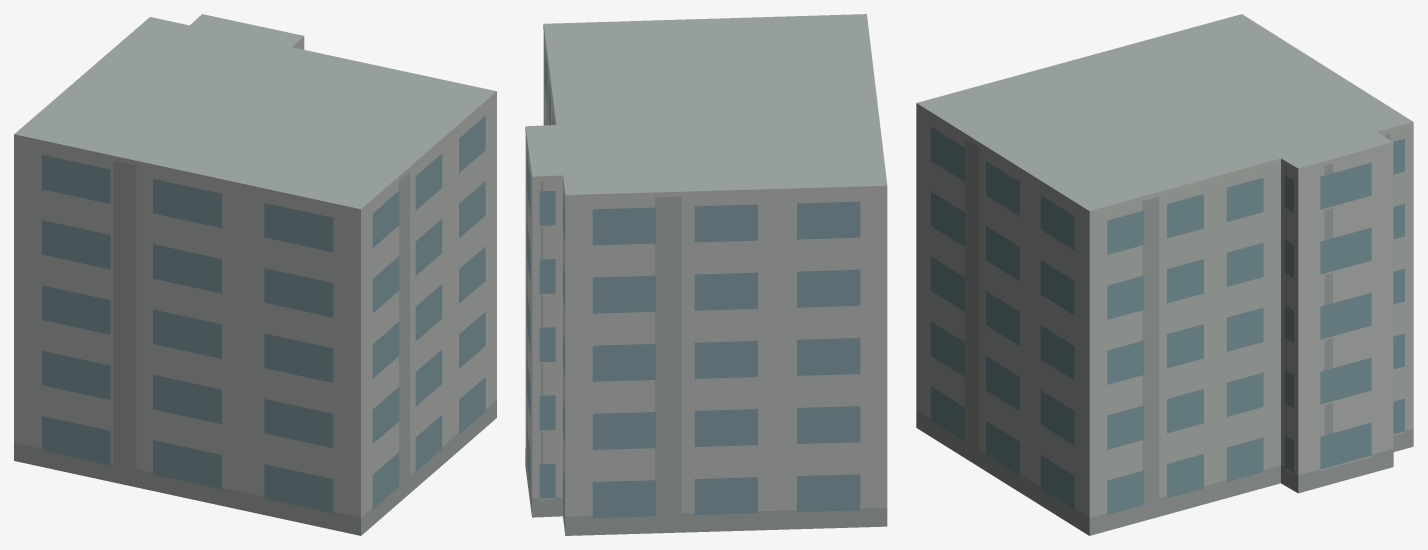
The model's file is survey-upis-32493415.glb.
3 views of the same model, side by side, from view 1: azimuth 30°, elevation 25°; view 2: azimuth 150°, elevation 25°; view 3: azimuth 270°, elevation 25° (orthographic). The views are drawn at different scales.
Visible parts, largest first — view 1: survey-upis-32493415.tmp; view 2: survey-upis-32493415.tmp; view 3: survey-upis-32493415.tmp.
Boxes of the visible parts, box(x1,y1,x2,y2) form: survey-upis-32493415.tmp: box(14, 14, 496, 535); survey-upis-32493415.tmp: box(525, 14, 887, 535); survey-upis-32493415.tmp: box(916, 14, 1413, 535).
Bounding box in the file's own units: 22.01 × 16.91 × 23.46.
